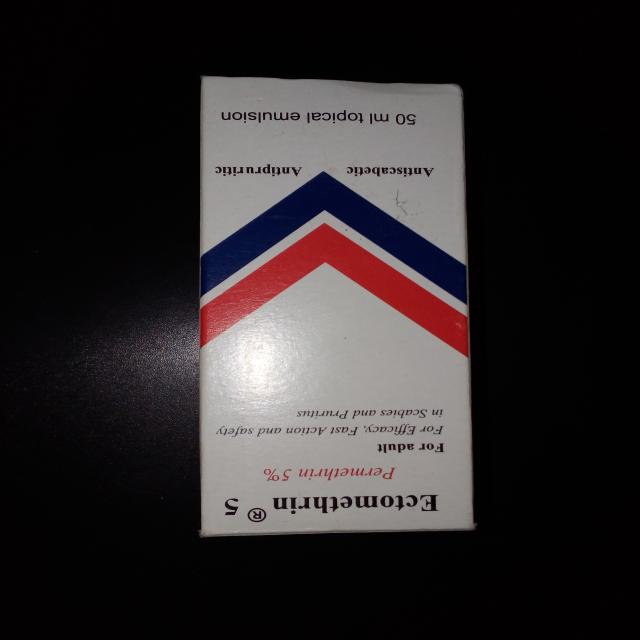Medicine: (193, 70, 485, 536)
